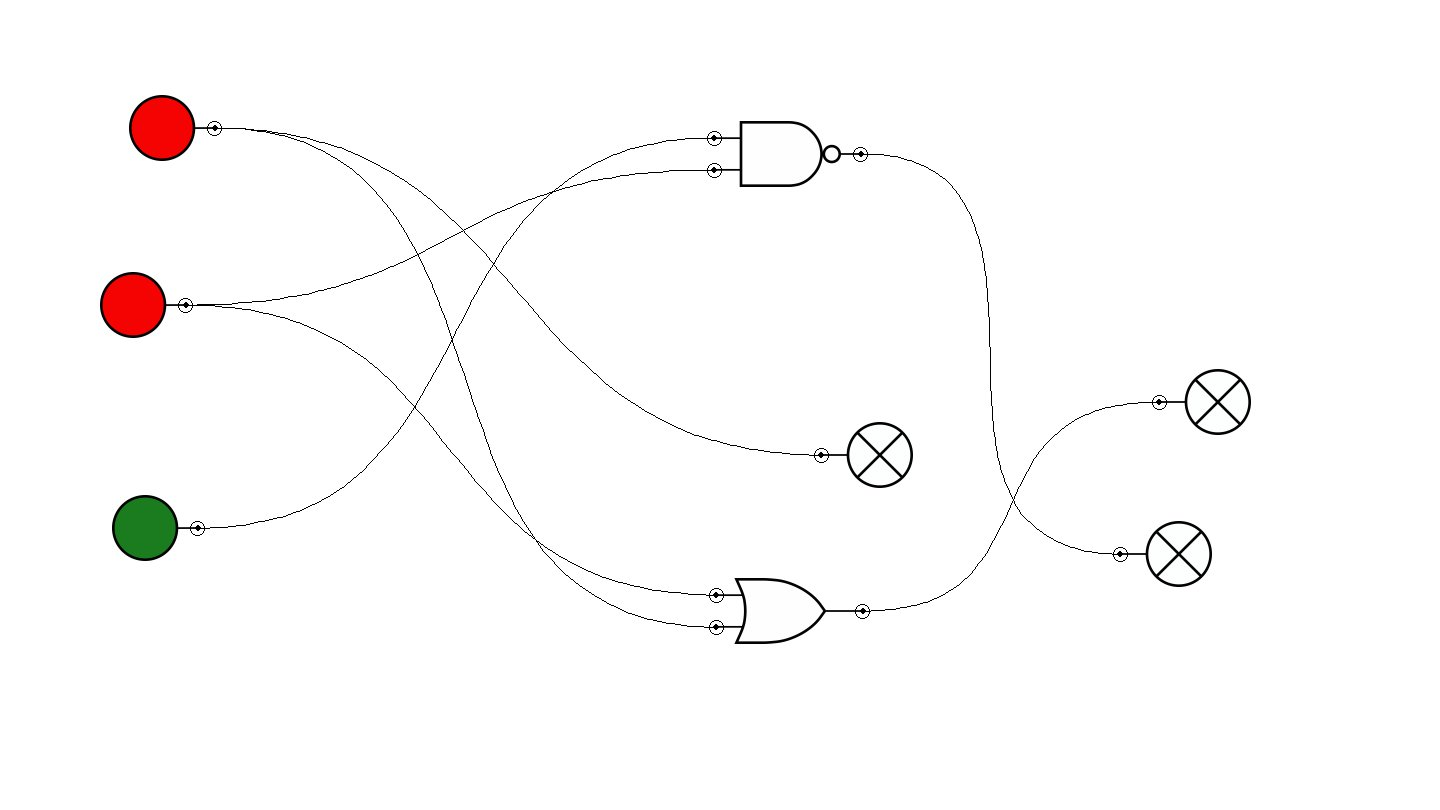bulb: (814, 422, 913, 488), (1152, 369, 1251, 435), (1113, 521, 1212, 587)
nand: (707, 121, 868, 187)
or: (709, 578, 870, 644)
switch_False: (100, 272, 193, 338), (129, 95, 222, 161)
switch_True: (112, 495, 205, 561)
